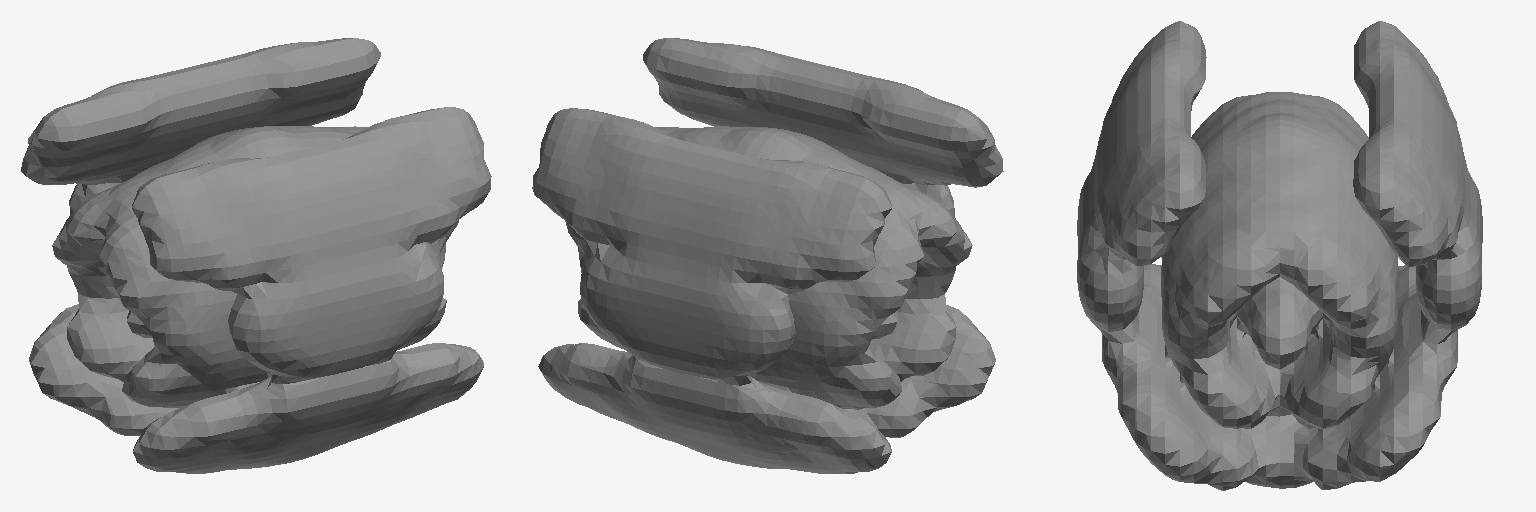
The robot description file, URDF, robot "cube.urdf":
<?xml version="0.0" ?> 
<robot name="cube.urdf"> 
<link name="legobrick"> 
<contact> 
<lateral_friction value="5.0"/> 
<rolling_friction value="0.0"/> 
<contact_cfm value="0.0"/> 
<contact_erp value="1.0"/> 
</contact> 
<inertial> 
<origin rpy="0 0 0" xyz="0.0 0.0 0.0"/> 
<mass value=".01"/> 
<inertia ixx="1" ixy="0" ixz="0" iyy="1" iyz="0" izz="1"/> 
</inertial> 
<visual> 
<origin rpy="1.570796 0 0" xyz="-0.027968505894171988 0.02796974608786686 -0.031111773879817287"/> 
<geometry> 
<mesh filename="G16_2.obj" scale="0.0006945779661195171 0.0006945779661195171 0.0006945779661195171"/> 
</geometry> 
<material name="yellow"> 
<color rgba="0.6 0.6 0.6 1"/> 
</material> 
</visual> 
<collision> 
<origin rpy="1.570796 0 0" xyz="-0.027968505894171988 0.02796974608786686 -0.031111773879817287"/> 
<geometry> 
<mesh filename="G16_2.obj" scale="0.0006945779661195171 0.0006945779661195171 0.0006945779661195171"/> 
</geometry> 
</collision> 
</link> 
</robot>

--- What the picture shows (computed from the rendered views, not written in the file) ---
Views: 3 orthographic renders of the robot side by side, from view 1: azimuth 30°, elevation 25°; view 2: azimuth 150°, elevation 25°; view 3: azimuth 270°, elevation 25°.
Model cube.urdf with 1 links and 0 joints (none), rooted at legobrick, posed every joint at zero.
Links seen in each view (by area): view 1: legobrick; view 2: legobrick; view 3: legobrick.
Boxes of the visible links, bbox=[...] form: legobrick: bbox=[21, 38, 491, 473]; legobrick: bbox=[532, 38, 1003, 473]; legobrick: bbox=[1077, 21, 1482, 490].
Bounding box of the posed robot: 0.0579 × 0.056 × 0.0555 m (x, y, z).
1 mesh visuals loaded from 1 distinct referenced files (1 OBJ).
